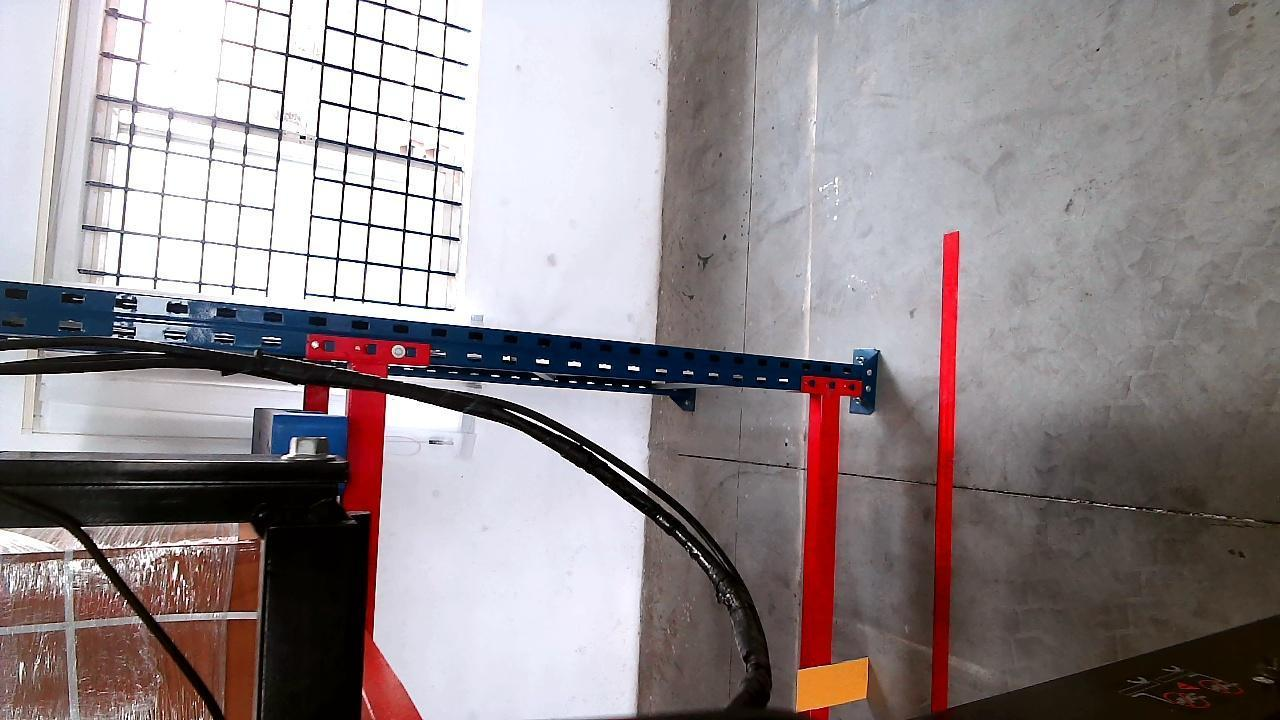h_rack: (803, 382, 837, 695), (356, 372, 386, 704)
orange_strip: (795, 658, 873, 713)
red_line: (931, 237, 960, 710)
